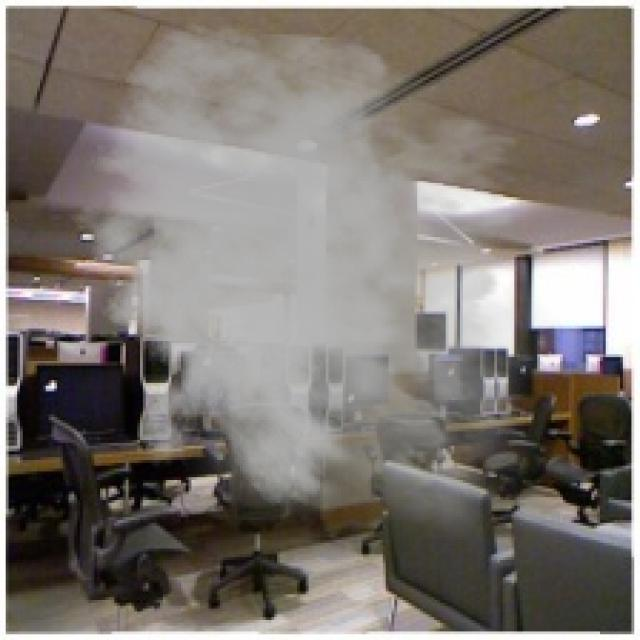smoke: (54, 23, 580, 554)
